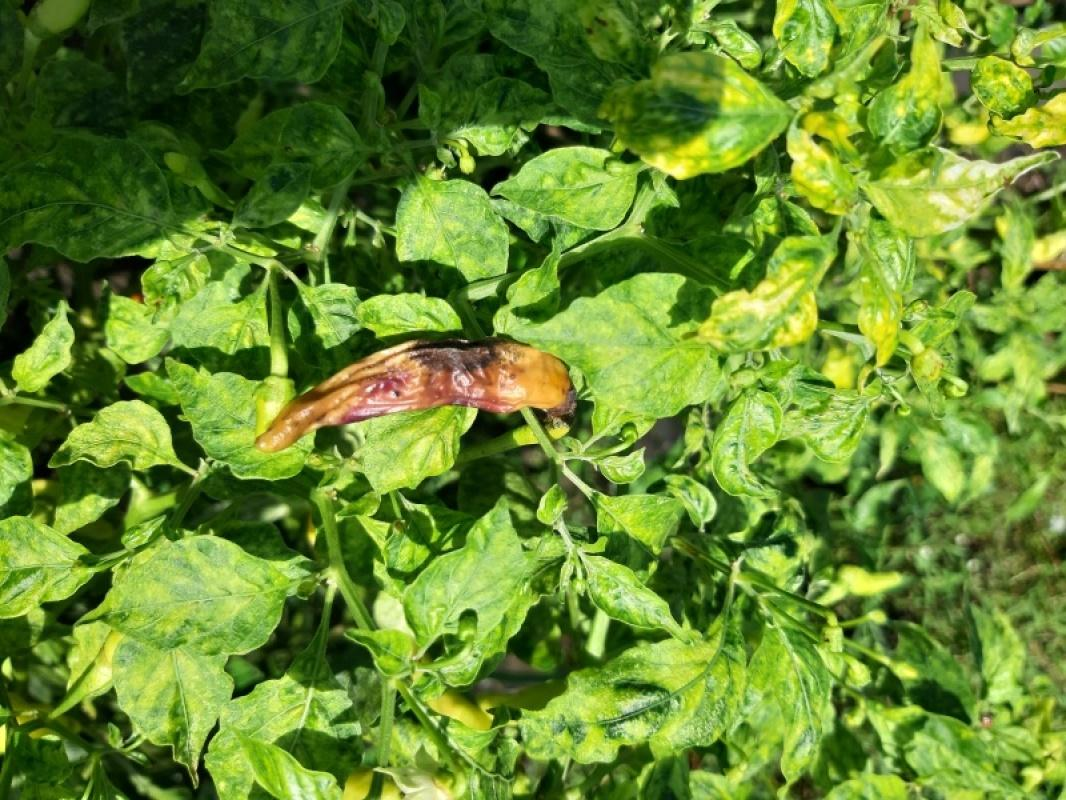antraknosa: (256, 341, 594, 457)
